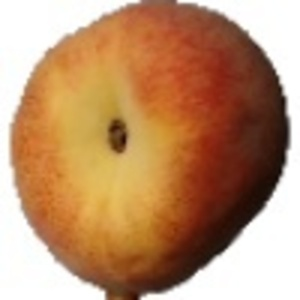pêssego: (6, 1, 290, 300)
